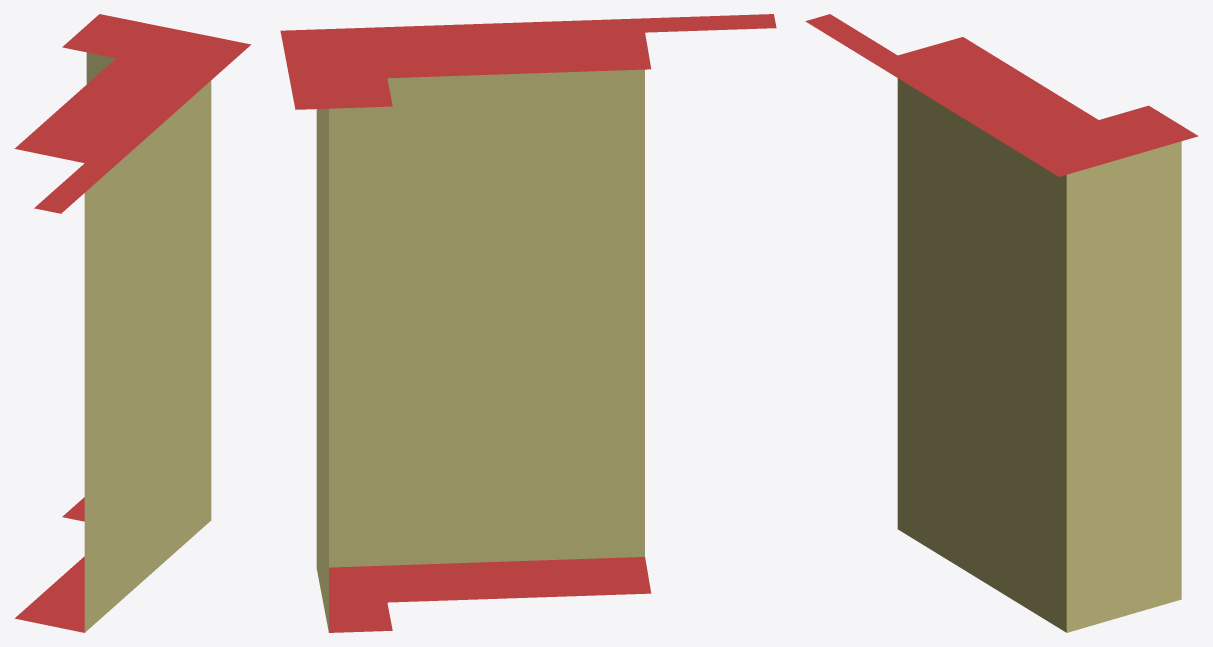
3 views of the same model, side by side, from view 1: azimuth 30°, elevation 25°; view 2: azimuth 150°, elevation 25°; view 3: azimuth 270°, elevation 25° (orthographic). The views are drawn at different scales.
Size of the model in its own units: 6.35 by 6.48 by 8.6.
